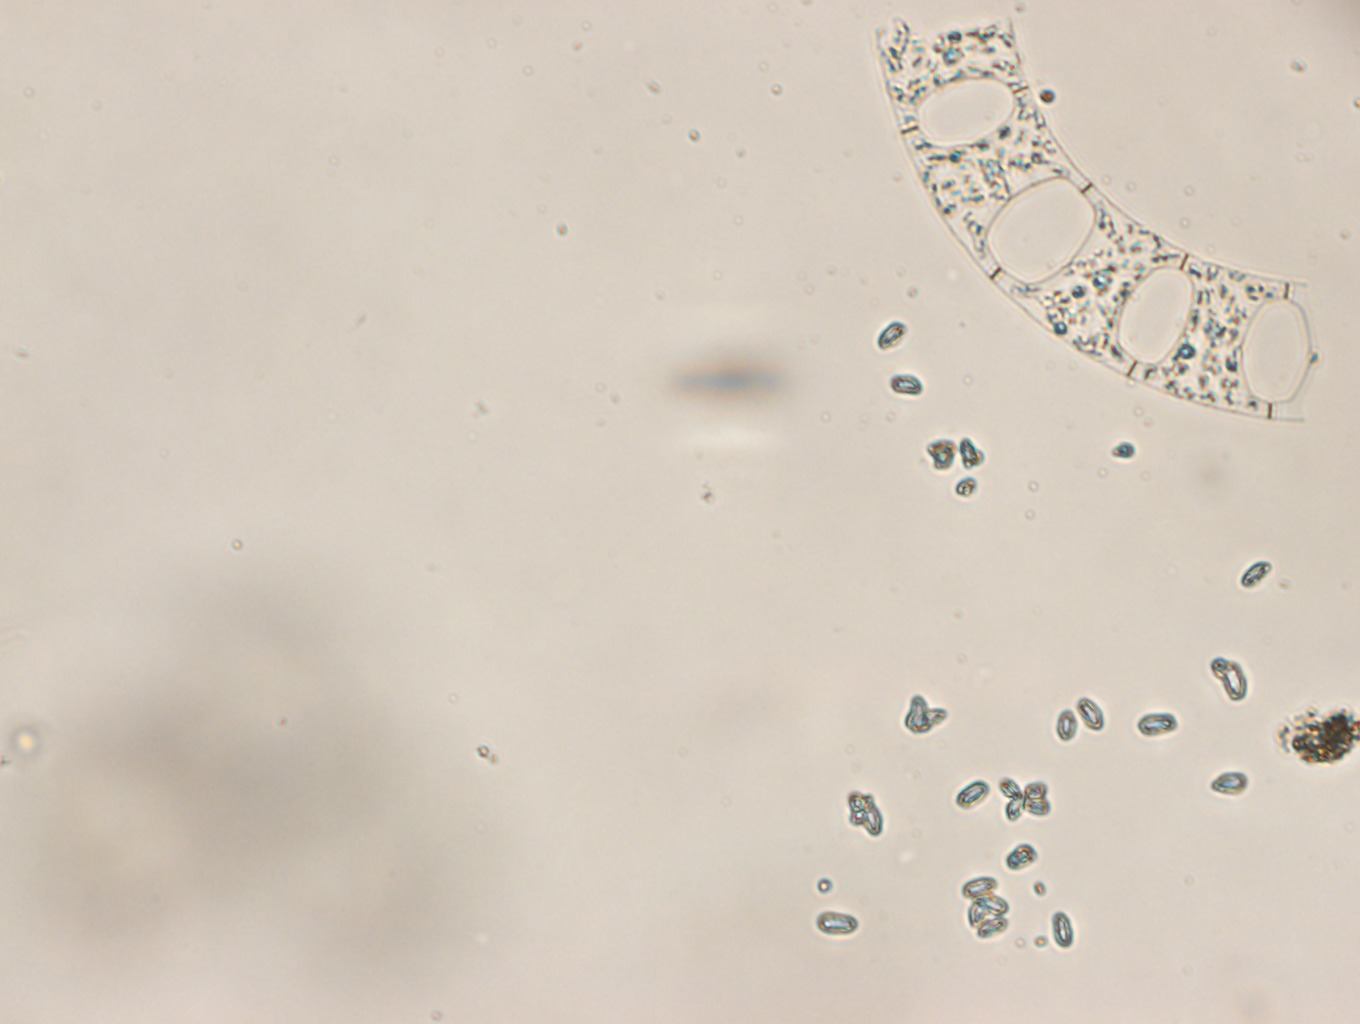eucampia: (873, 13, 1314, 419)
